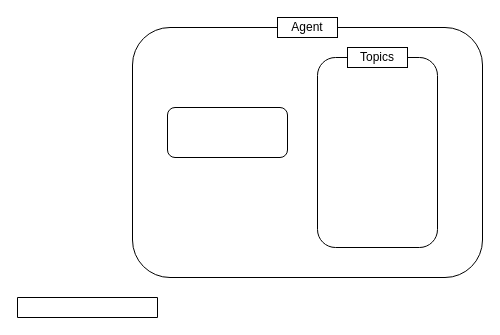
This 500x335 diagram has some shape labels left out. The shapes that lost their labels are listed below. From the top down, each one's box as (x1, y1, x2, y2) in pixels, then its label:
(166, 106, 288, 158): Atlas Reasoning Engine
(16, 296, 158, 318): Reasoning Engine
